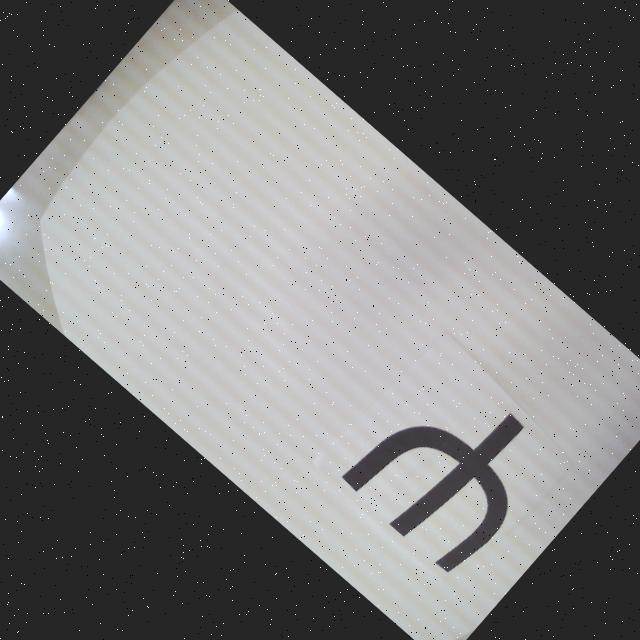PSI: (338, 356, 562, 582)
